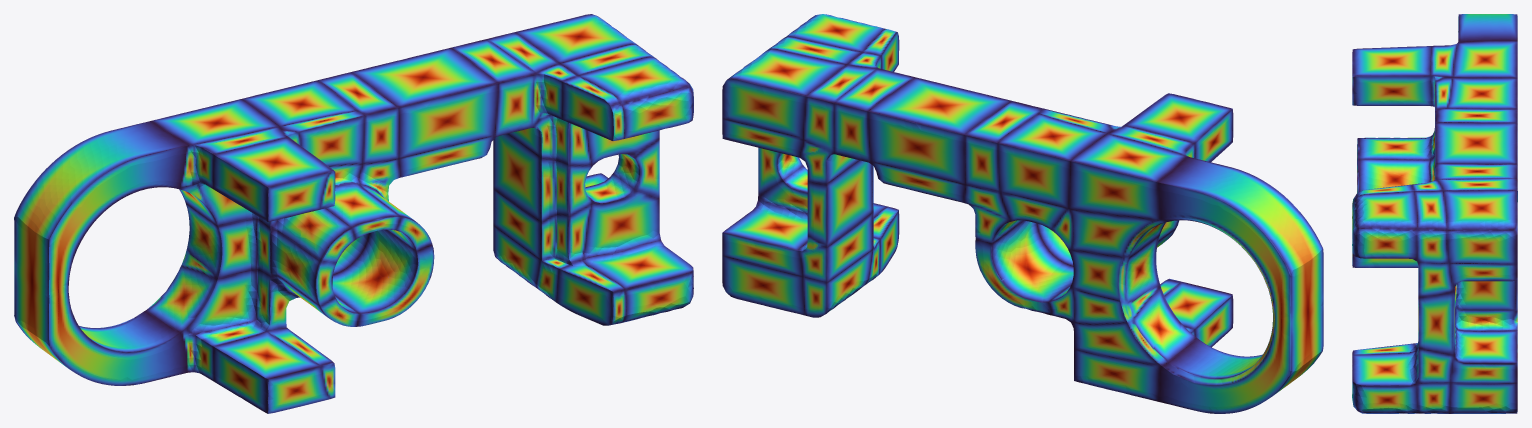
Rendered from gen3.glb.
3 views of the same model, side by side, from view 1: azimuth 30°, elevation 25°; view 2: azimuth 150°, elevation 25°; view 3: azimuth 270°, elevation 25° (orthographic). The views are drawn at different scales.
Parts seen in each view (by area): view 1: Node; view 2: Node; view 3: Node.
Part boxes in pixels (<box>): Node: <box>14,14,693,413</box>; Node: <box>722,14,1323,413</box>; Node: <box>1352,14,1517,413</box>.
Bounding box in the file's own units: 34.6 × 12.8 × 10.
1 material, 1 textured.
